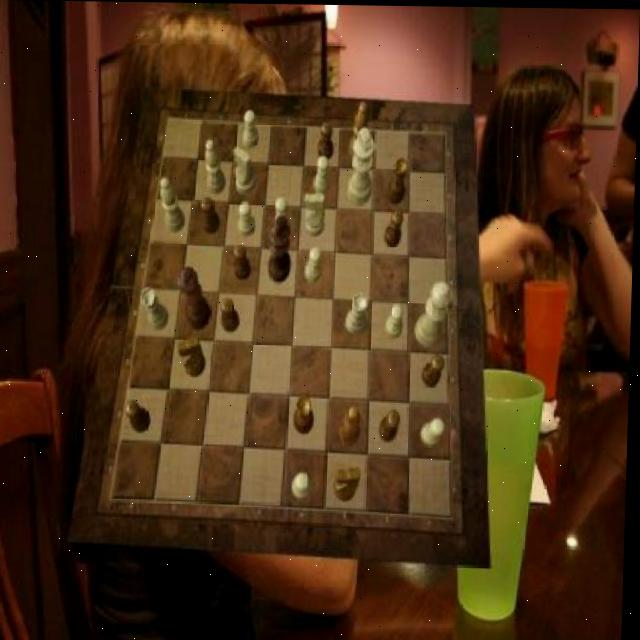bishop: (350, 101, 369, 160), (342, 406, 364, 446)
black-bishop: (271, 214, 295, 282)
black-king: (179, 336, 209, 377), (336, 466, 364, 501)
black-knight: (127, 400, 154, 433), (424, 354, 447, 387), (202, 198, 223, 234), (235, 244, 254, 281), (222, 298, 242, 333), (382, 409, 403, 442), (318, 120, 335, 159), (387, 209, 405, 245)
black-pawn: (178, 267, 214, 331)
black-queen: (387, 157, 409, 203), (296, 394, 318, 433)
black-rook: (161, 177, 187, 232), (206, 138, 228, 192)
white-bishop: (349, 126, 377, 205)
white-king: (234, 146, 257, 195), (306, 191, 327, 235)
white-knight: (387, 303, 406, 339), (314, 155, 331, 195), (422, 417, 446, 445), (275, 196, 293, 233), (245, 109, 262, 148), (308, 245, 325, 281), (294, 473, 315, 501), (241, 202, 258, 236)
white-pawn: (417, 280, 455, 346)
white-queen: (143, 287, 172, 329), (348, 292, 371, 334)
